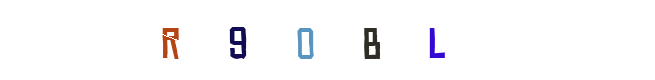0: (266, 0, 346, 80)
9: (262, 0, 342, 80)
B: (288, 0, 368, 80)
L: (394, 0, 474, 80)
R: (130, 0, 210, 80)
